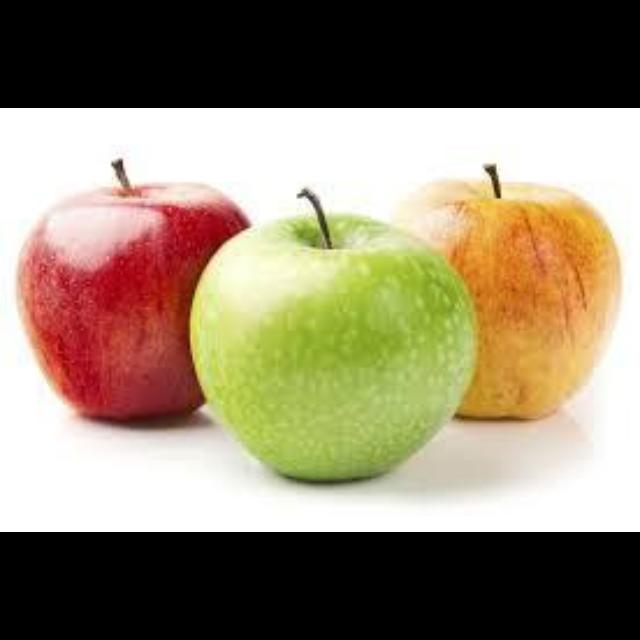apple: (190, 187, 473, 481), (16, 159, 248, 419), (392, 164, 619, 419)
